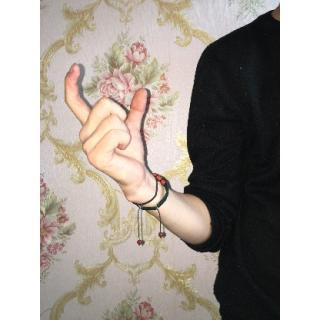NOON: (60, 61, 152, 189)
